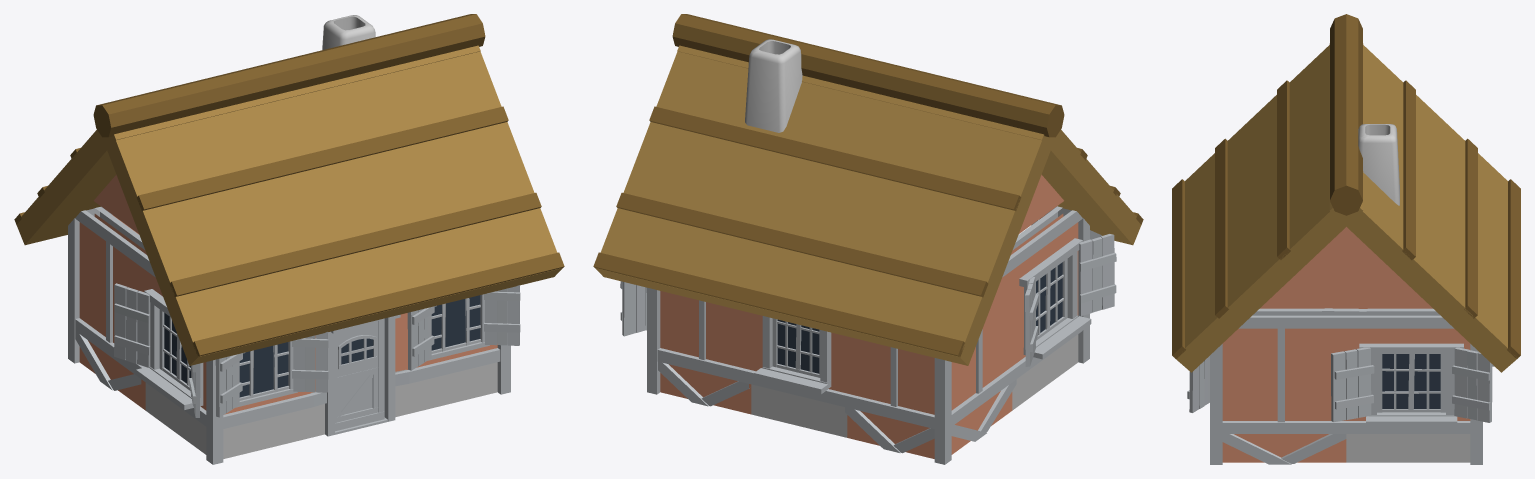
File: cottage_thatch.gltf
3 views of the same model, side by side, from view 1: azimuth 30°, elevation 25°; view 2: azimuth 150°, elevation 25°; view 3: azimuth 270°, elevation 25° (orthographic). The views are drawn at different scales.
Parts seen in each view (by area): view 1: RoofSlab.026, RidgeRoll.036, Wall_Plaster_Straight.014, RoofSlab.030, Course.027, Course.028, Course.029, Door_1_Round.006, Wall_Plaster_Window_Wide_Round.007, Wall_Plaster_Window_Wide_Round.001, Window_Wide_Flat1.016, WindowShutters_Wide_Round_Open.009 (+12 smaller); view 2: RoofSlab.030, RidgeRoll.036, Wall_Plaster_Straight.010, Wall_Plaster_Straight.013, RoofSlab.026, Wall_Plaster_Straight.014, Course.031, Course.032, Course.033, Wall_Plaster_Window_Wide_Flat.015, Wall_Plaster_Window_Wide_Flat.011, Window_Wide_Flat1.016 (+8 smaller); view 3: RoofSlab.026, RoofSlab.030, Wall_Plaster_Straight.018, Wall_Plaster_Window_Wide_Flat.019, Window_Wide_Flat1.020, RidgeRoll.036, Gable.034, WindowShutters_Wide_Flat_Open.021, Prop_Chimney2.037, Course.031, Course.027, Course.029 (+8 smaller).
Part boxes in pixels (left/top/right/bottom): RoofSlab.026: left=102, top=51, right=562, bottom=365; RidgeRoll.036: left=93, top=14, right=485, bottom=137; Wall_Plaster_Straight.014: left=75, top=207, right=146, bottom=410; RoofSlab.030: left=16, top=45, right=480, bottom=245; Course.027: left=137, top=106, right=508, bottom=210; Course.028: left=169, top=192, right=541, bottom=296; Course.029: left=193, top=252, right=564, bottom=356; Door_1_Round.006: left=335, top=318, right=384, bottom=431; Wall_Plaster_Window_Wide_Round.007: left=406, top=313, right=500, bottom=414; Wall_Plaster_Window_Wide_Round.001: left=223, top=391, right=313, bottom=458; Window_Wide_Flat1.016: left=136, top=289, right=203, bottom=409; WindowShutters_Wide_Round_Open.009: left=407, top=285, right=520, bottom=370; RoofSlab.030: left=595, top=51, right=1050, bottom=365; RidgeRoll.036: left=672, top=14, right=1064, bottom=137; Wall_Plaster_Straight.010: left=657, top=291, right=751, bottom=414; Wall_Plaster_Straight.013: left=844, top=336, right=934, bottom=458; RoofSlab.026: left=677, top=45, right=1141, bottom=245; Wall_Plaster_Straight.014: left=951, top=254, right=1016, bottom=454; Course.031: left=649, top=106, right=1021, bottom=210; Course.032: left=616, top=192, right=988, bottom=297; Course.033: left=593, top=252, right=964, bottom=357; Wall_Plaster_Window_Wide_Flat.015: left=1011, top=206, right=1082, bottom=410; Wall_Plaster_Window_Wide_Flat.011: left=748, top=313, right=847, bottom=437; Window_Wide_Flat1.016: left=1019, top=238, right=1091, bottom=359; RoofSlab.026: left=1175, top=43, right=1363, bottom=372; RoofSlab.030: left=1329, top=43, right=1517, bottom=372; Wall_Plaster_Straight.018: left=1222, top=308, right=1346, bottom=464; Wall_Plaster_Window_Wide_Flat.019: left=1346, top=308, right=1470, bottom=462; Window_Wide_Flat1.020: left=1359, top=343, right=1463, bottom=426; RidgeRoll.036: left=1330, top=14, right=1362, bottom=215; Gable.034: left=1268, top=227, right=1424, bottom=301; WindowShutters_Wide_Flat_Open.021: left=1331, top=347, right=1492, bottom=422; Prop_Chimney2.037: left=1358, top=124, right=1399, bottom=205; Course.031: left=1402, top=80, right=1415, bottom=260; Course.027: left=1277, top=80, right=1290, bottom=259; Course.029: left=1172, top=179, right=1185, bottom=358.
Bounding box in the file's own units: 7.8 × 6.4 × 6.7.
